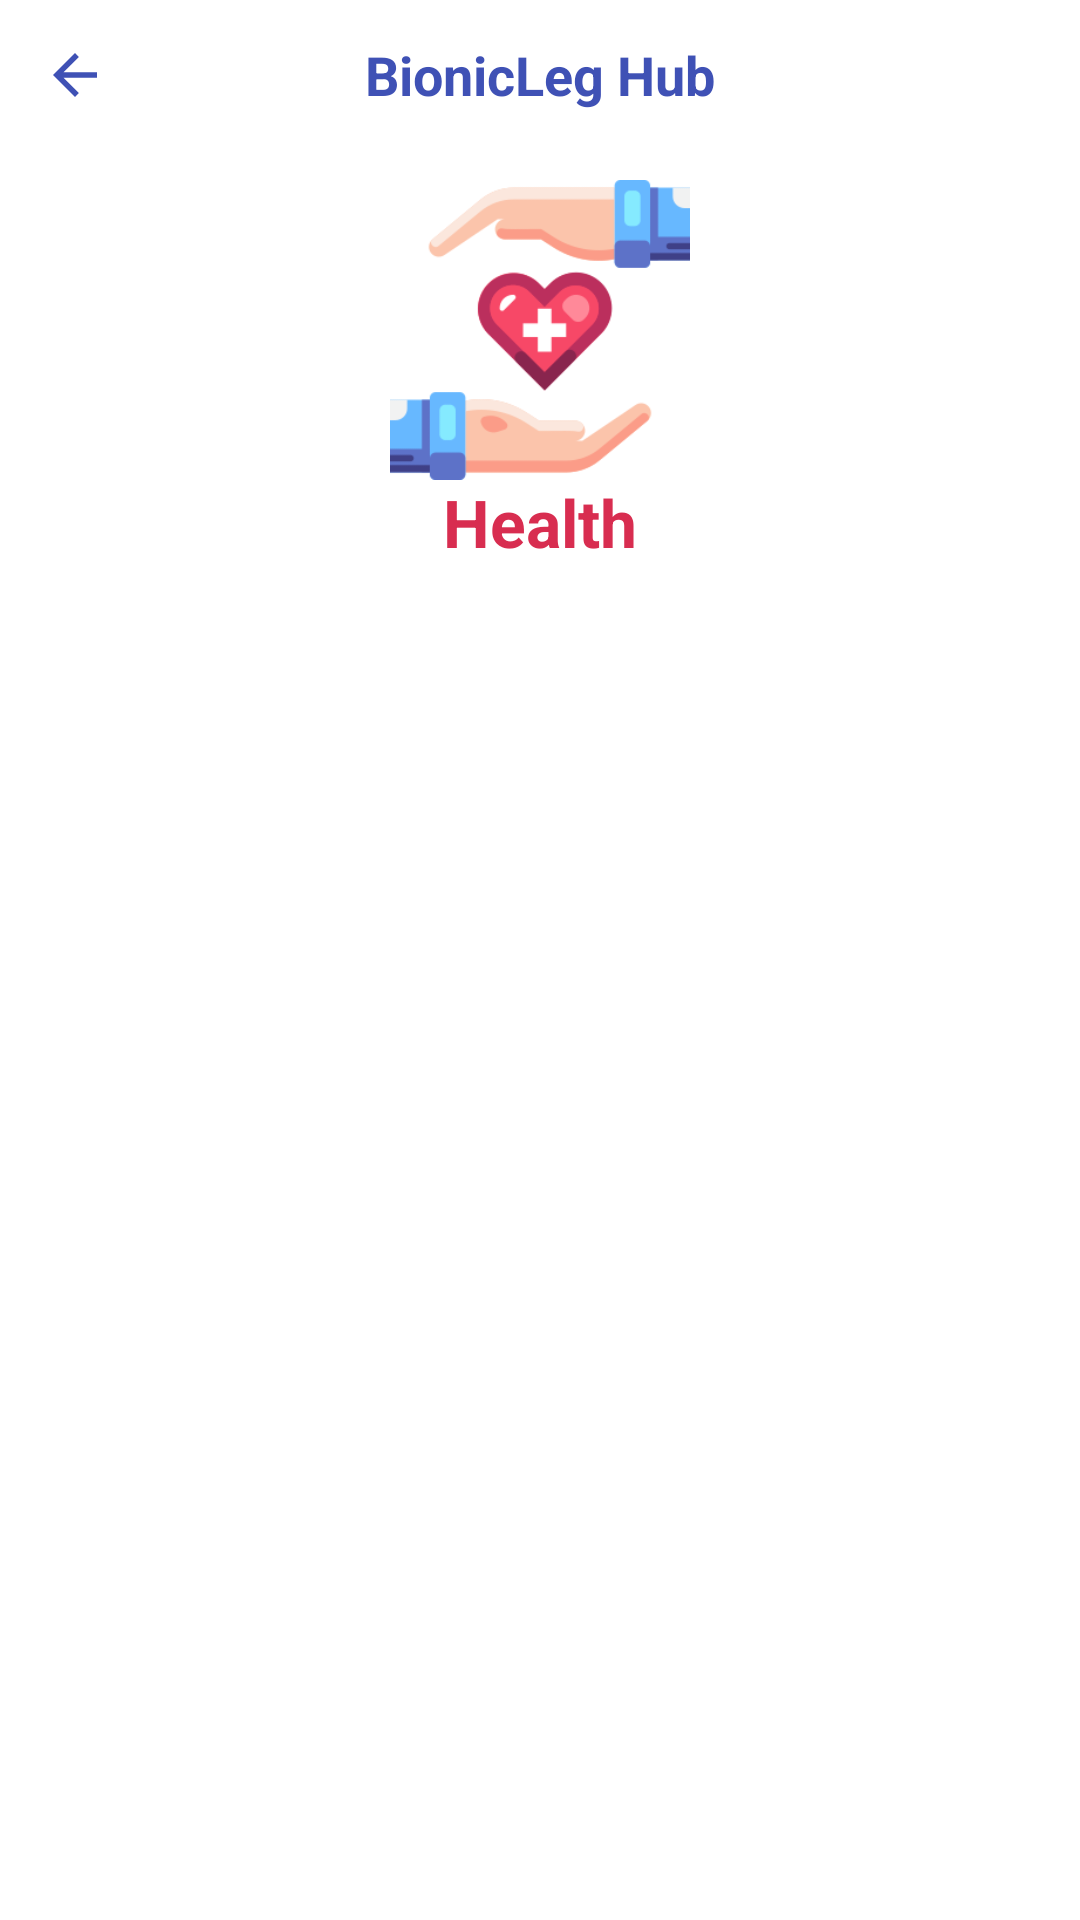

Icon click points for this 1080 x 1920 phone screenshot, format (x,y):
back: (75,75)
